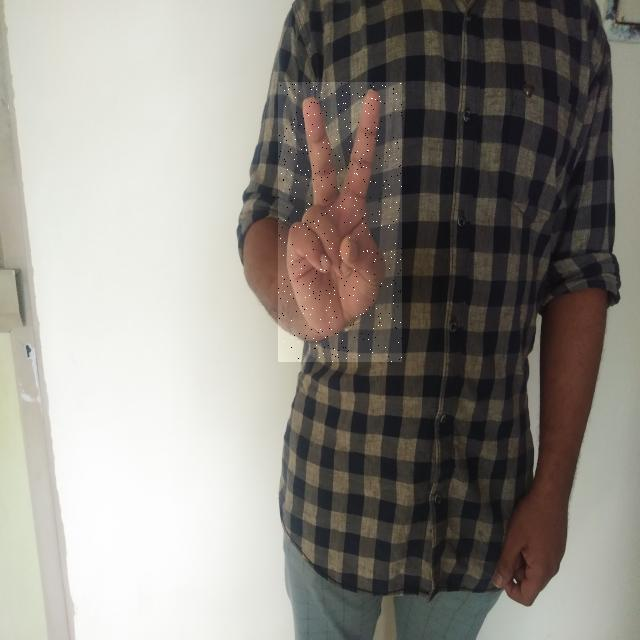V: (278, 82, 402, 362)
